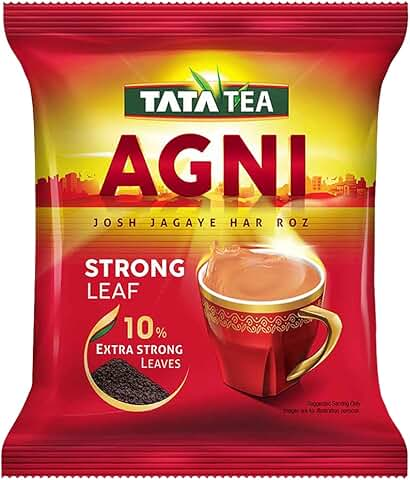Tea: (3, 2, 410, 480)
